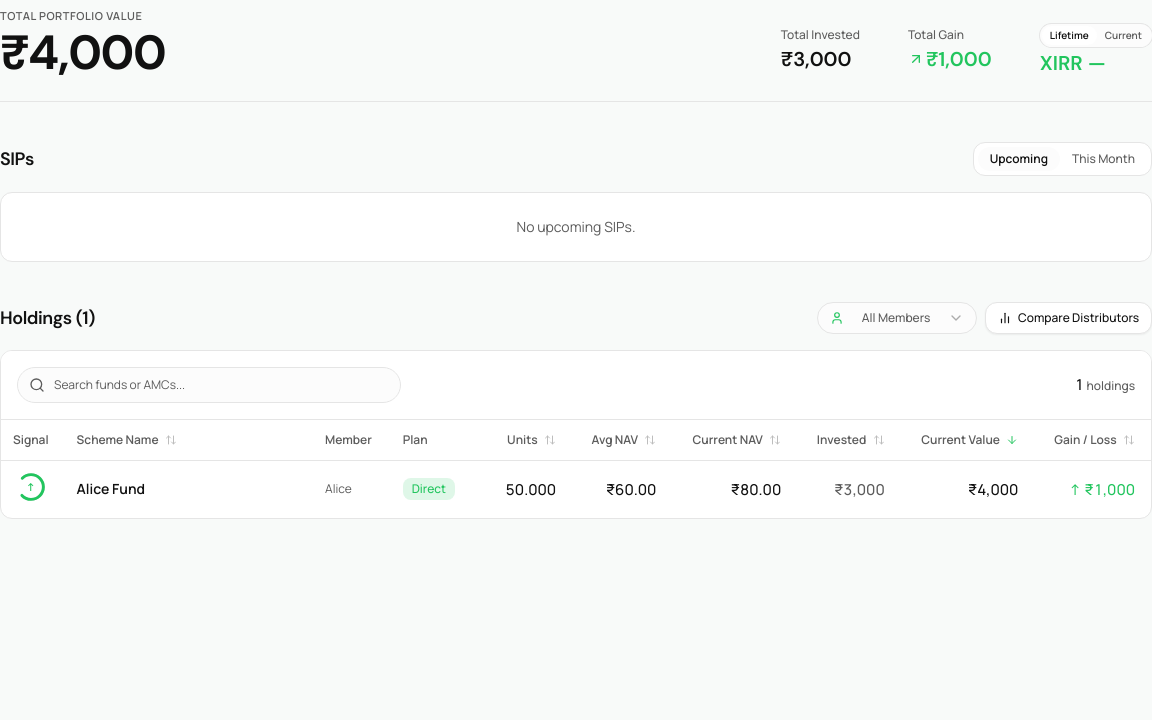
Test: DashboardView › opens the portfolio-wide distributor comparison from the Holdings section header
The width and height of the screenshot is (1152, 720).
Check: the text "Alice Fund" is shown, box [77, 479, 145, 498]
Click the button "Compare Distributors". click: (1069,318)
box: [985, 302, 1151, 334]
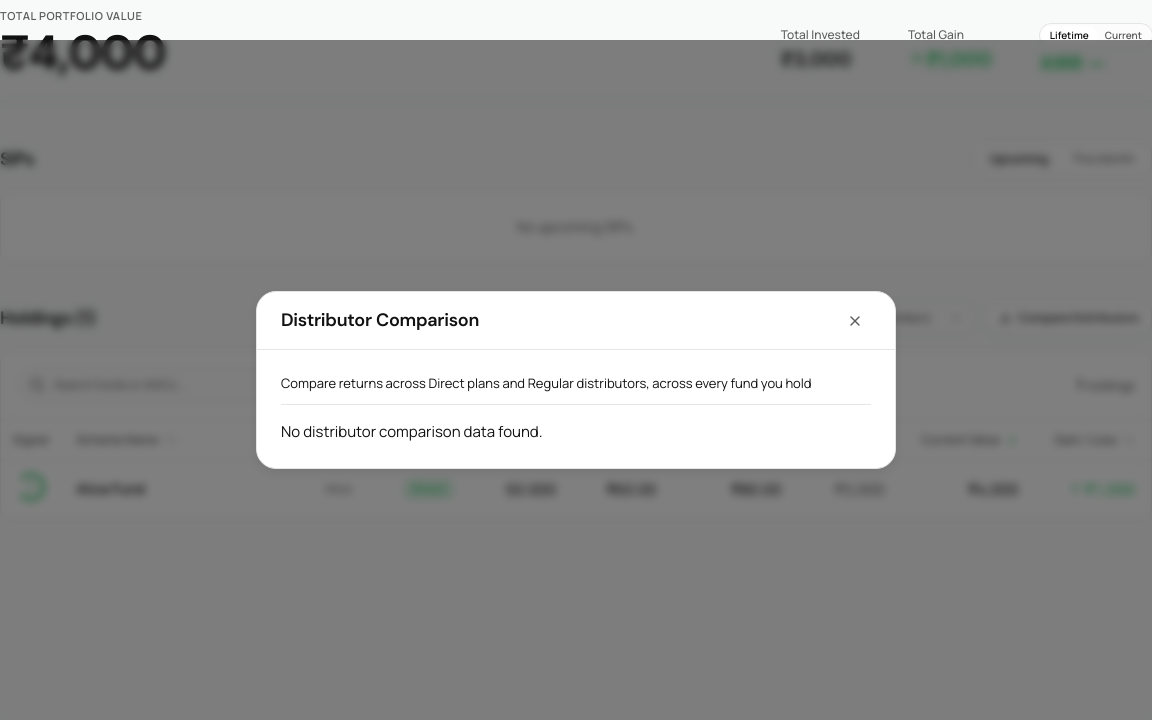
Check: the text "No distributor comparison data found." is shown, box [281, 421, 542, 442]
